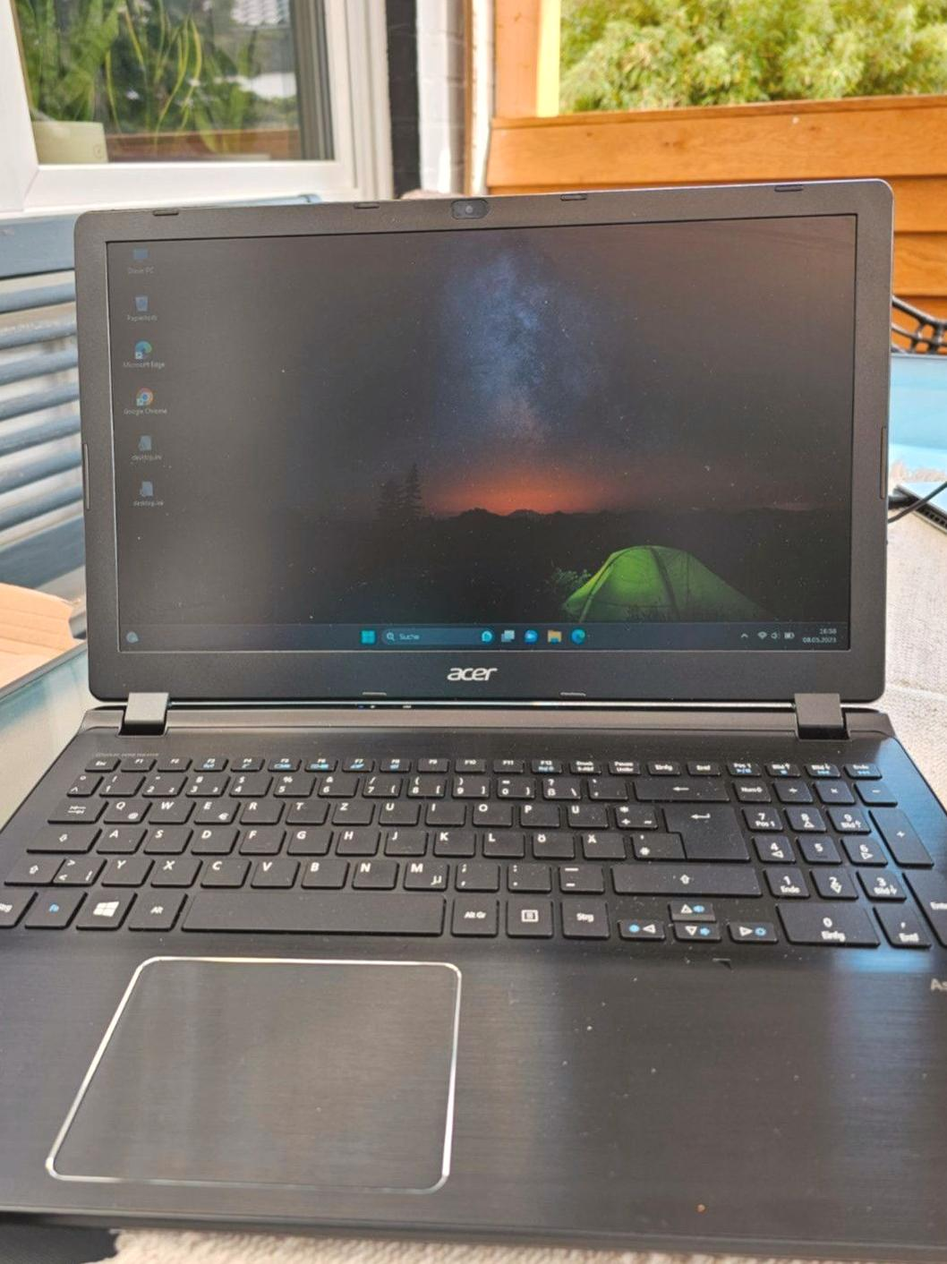0: (493, 773, 535, 797)
1: (96, 769, 140, 793)
2: (137, 769, 183, 793)
3: (180, 767, 226, 794)
4: (226, 768, 268, 793)
5: (269, 768, 311, 793)
6: (314, 769, 355, 794)
7: (359, 772, 400, 795)
8: (404, 772, 446, 795)
9: (449, 772, 490, 796)
a: (91, 821, 141, 850)
accent: (585, 773, 627, 798)
ae: (579, 829, 624, 858)
alt-left: (121, 884, 183, 928)
altgr-right: (448, 891, 497, 934)
b: (295, 853, 345, 885)
c: (194, 851, 246, 884)
caret: (64, 769, 99, 792)
comma: (451, 858, 499, 889)
d: (186, 822, 235, 850)
del: (629, 774, 729, 798)
e: (189, 794, 235, 821)
enter: (663, 800, 748, 857)
f: (235, 822, 281, 851)
g: (283, 823, 328, 851)
h: (331, 823, 377, 852)
hash: (629, 829, 681, 857)
i: (422, 797, 464, 823)
j: (380, 824, 424, 853)
k: (430, 826, 474, 854)
keyboard: (1, 738, 947, 956)
l: (479, 827, 523, 856)
less: (50, 850, 101, 882)
m: (399, 856, 447, 888)
minus: (555, 861, 603, 891)
n: (346, 854, 395, 886)
o: (468, 799, 510, 824)
oe: (529, 829, 574, 857)
p: (516, 800, 559, 825)
plus: (610, 799, 658, 826)
point: (503, 860, 550, 889)
q: (98, 793, 146, 820)
r: (235, 794, 280, 821)
s: (139, 821, 188, 850)
shift-left: (2, 851, 60, 880)
shift-lock: (24, 820, 98, 849)
shift-right: (609, 860, 761, 892)
space: (178, 886, 443, 932)
ss: (540, 773, 581, 798)
strg-left: (1, 886, 37, 930)
strg-right: (557, 894, 608, 935)
t: (282, 794, 325, 821)
tab: (45, 793, 104, 818)
u: (375, 796, 417, 823)
ue: (564, 799, 606, 825)
v: (245, 852, 294, 884)
w: (144, 793, 189, 820)
x: (145, 850, 196, 884)
y: (96, 850, 149, 883)
z: (328, 795, 371, 822)
